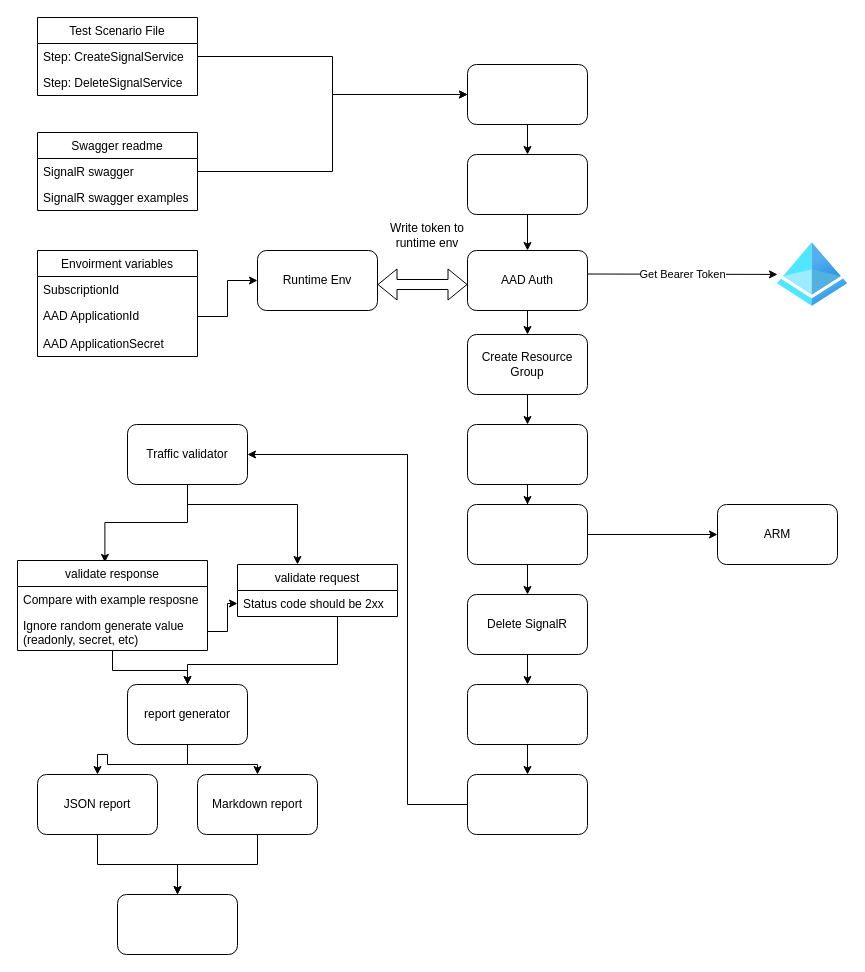
This 865x972 diagram has some shape labels left out. The centre of each missing label's shape, as x and y in pixels:
"Create SignalR" goes at (x=527, y=454).
"Delete Resource Group" goes at (x=527, y=714).
"Done" goes at (x=177, y=924).
"LRO Poller" goes at (x=527, y=534).
"OAV: Postman Runner" goes at (x=527, y=184).
"OAV: Test Secneario Loader" goes at (x=527, y=94).
"Response Validator" goes at (x=527, y=804).
